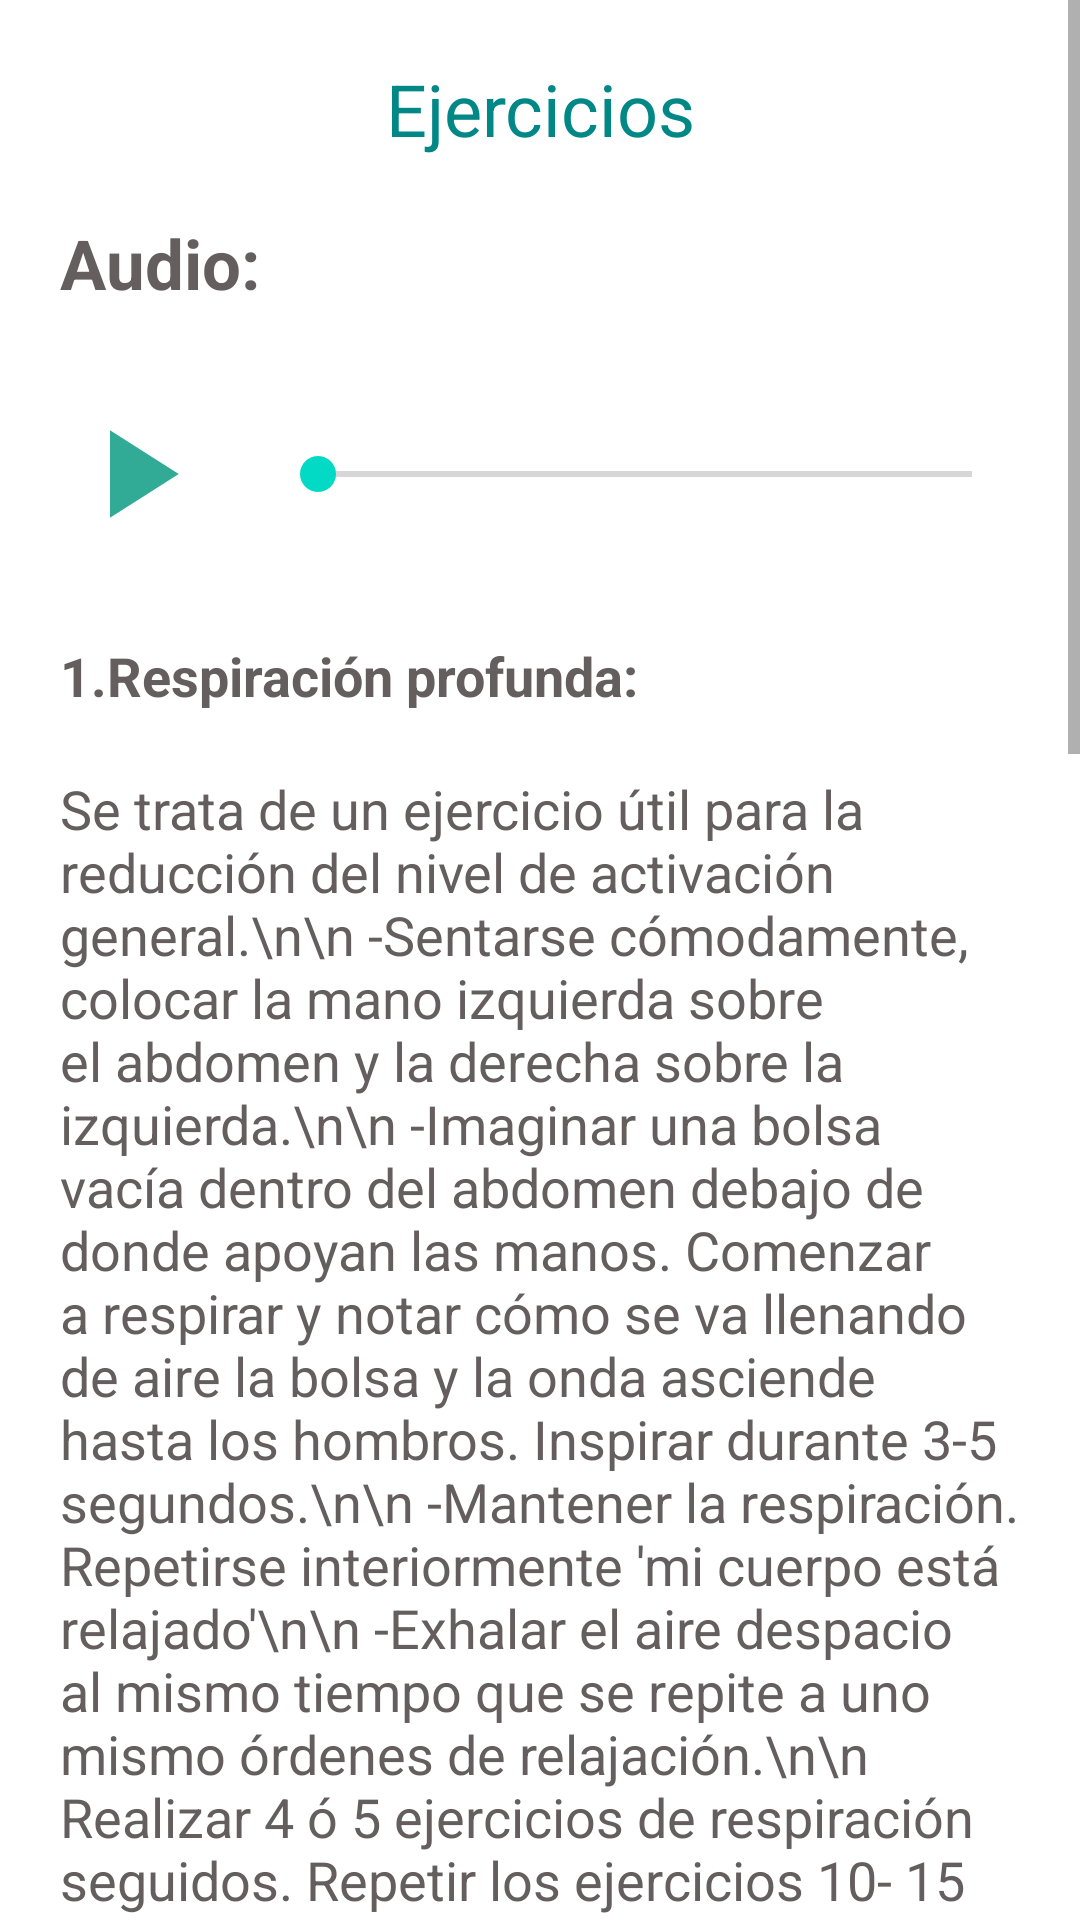

Icons on this 1080px×1920px Android screen, each with the point to tap as point (x, y):
play arrow: point (144, 474)
